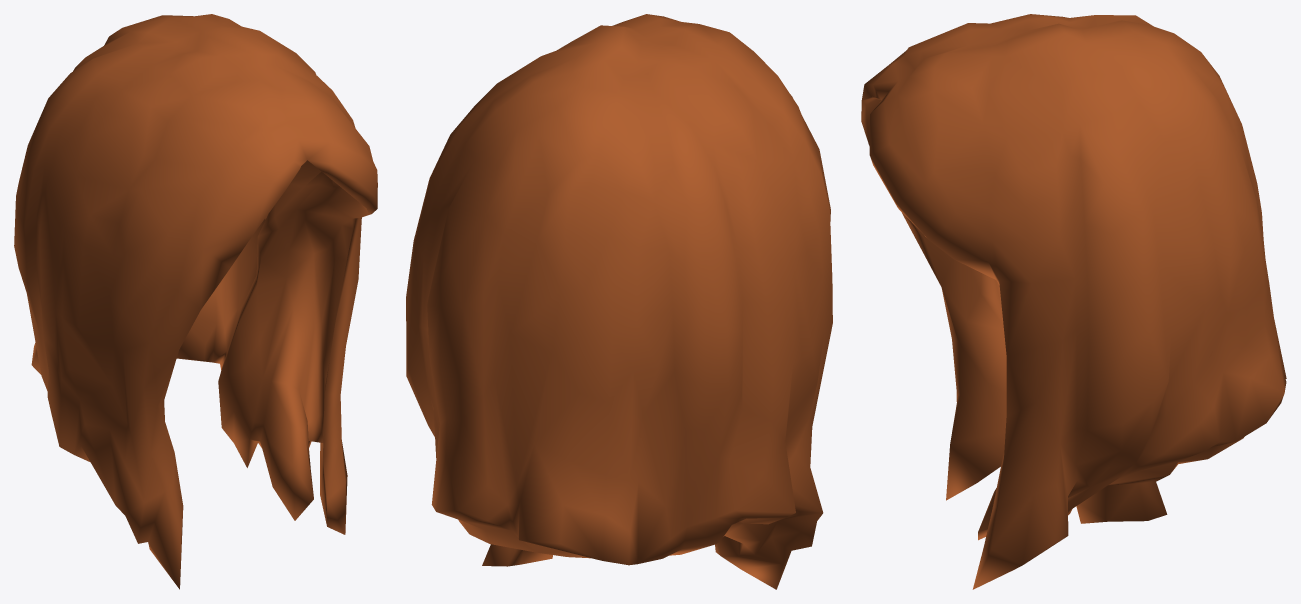
3 views of the same model, side by side, from view 1: azimuth 30°, elevation 25°; view 2: azimuth 150°, elevation 25°; view 3: azimuth 270°, elevation 25° (orthographic). The views are drawn at different scales.
Visible parts, largest first — view 1: Wolf3D_Hair.029; view 2: Wolf3D_Hair.029; view 3: Wolf3D_Hair.029.
Part boxes in pixels (left/top/right/bottom): Wolf3D_Hair.029: left=14, top=14, right=377, bottom=589; Wolf3D_Hair.029: left=406, top=14, right=832, bottom=589; Wolf3D_Hair.029: left=861, top=14, right=1286, bottom=589.
Bounding box in the file's own units: 0.211 × 0.3245 × 0.2406.
Materials: 1 (1 with a texture image).
